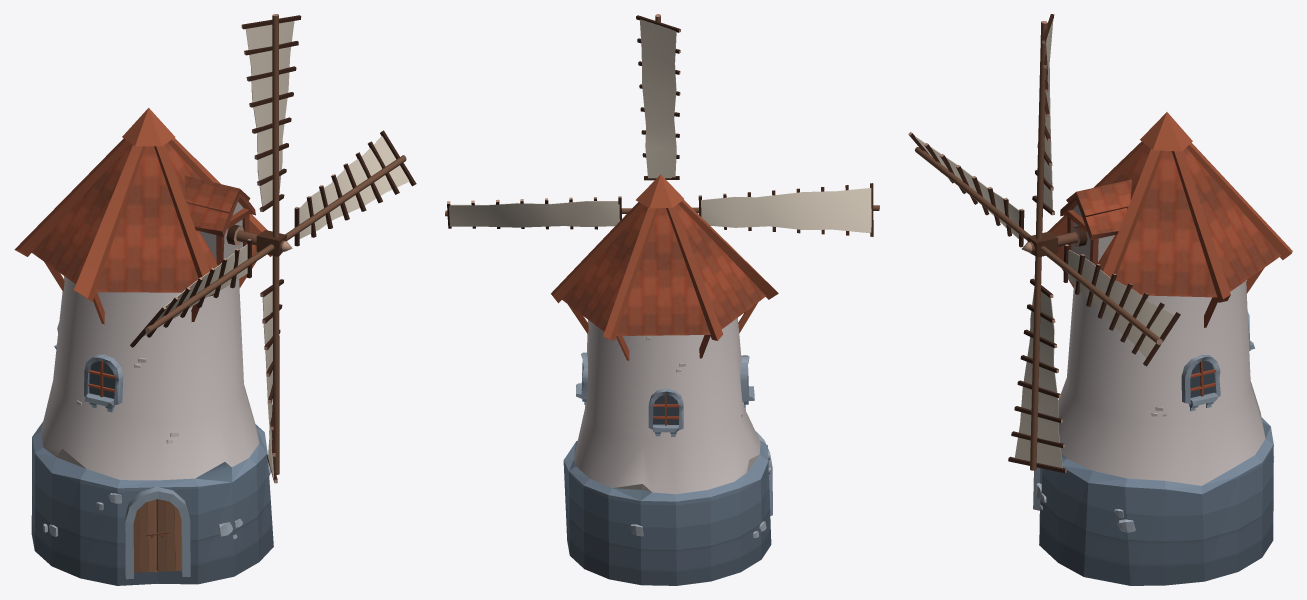
File: windmill.glb
3 views of the same model, side by side, from view 1: azimuth 30°, elevation 25°; view 2: azimuth 150°, elevation 25°; view 3: azimuth 270°, elevation 25° (orthographic). The views are drawn at different scales.
Visible parts, largest first — view 1: Mill-wind; view 2: Mill-wind; view 3: Mill-wind.
Boxes of the visible parts, box(x1,y1,x2,y2) form: Mill-wind: box(14, 14, 416, 585); Mill-wind: box(445, 14, 879, 585); Mill-wind: box(908, 14, 1292, 585).
Bounding box in the file's own units: 11.28 × 15.33 × 9.75.
Materials: 2 (2 with a texture image).
